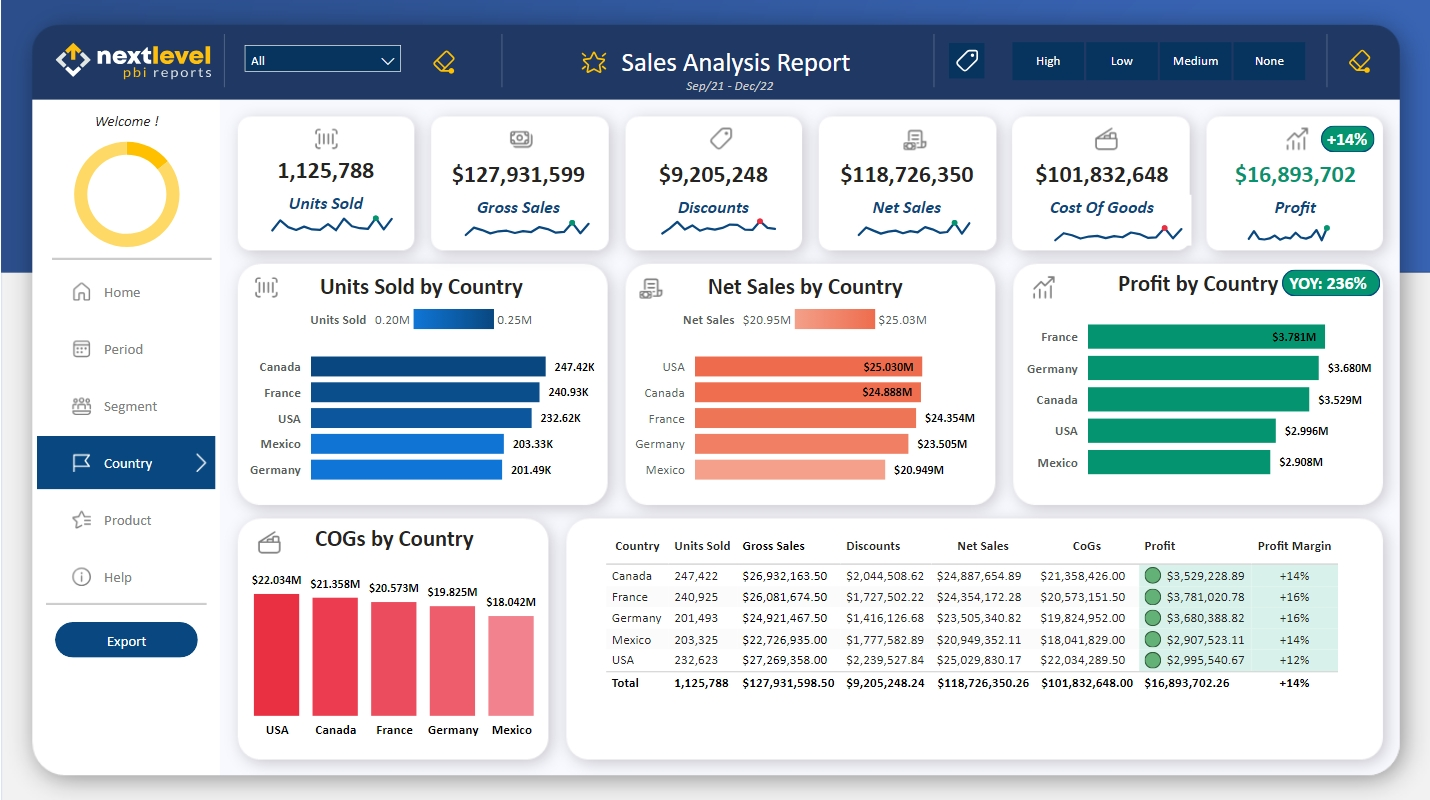

The dashboard page shown, as its layout file describes it:
{"tool":"powerbi","page":{"name":"Sales Analysis","canvas":[1280,720],"ordinal":1},"visuals":[{"type":"shape","title":"vertical line","box":[192,32,16,48],"z":0,"group":"g10"},{"type":"shape","title":"Profit margin Shape","box":[1182,114,48,24],"z":0,"group":"g7"},{"type":"shape","title":"line separate menu","box":[45,218,143,32],"z":0,"group":"g8"},{"type":"actionButton","title":"Units sold Button","box":[222,243,32,32],"z":0,"group":"g6"},{"type":"actionButton","title":"Net Sales Button","box":[567,243,32,32],"z":0,"group":"g4"},{"type":"actionButton","title":"Profit Button","box":[918,243,32,32],"z":0,"group":"g2"},{"type":"actionButton","title":"Period_active","box":[32,291,160,48],"z":0,"group":"g11"},{"type":"tableEx","fields":{"Values":["Dim_Date.Reporting period","Mesures.M_Units Sold","Mesures.M_Gross Sales","Mesures.M_Discounts","Mesures.M_Net Sales","Mesures.M_Cost Of Goods","Mesures.M_Profit","Mesures.M_Profit Margin Formatted"]},"box":[512,464,720,216],"z":0,"group":"g5"},{"type":"actionButton","title":"COGs Button","box":[224,472,32,32],"z":0,"group":"g1"},{"type":"actionButton","title":"Export","box":[48,560,128,32],"z":0,"group":"g3"},{"type":"slicer","title":"Manager Slicer","fields":{"Values":["DIM_MANAGERS.Manager Name"]},"box":[208,32,160,48],"z":1000,"group":"g9"},{"type":"shape","title":"vertical line","box":[440,32,16,48],"z":1000,"group":"g10"},{"type":"card","title":"Welcome_card","fields":{"Values":["Mesures.M_User Greeting"]},"box":[32,96,160,32],"z":1000,"group":"g8"},{"type":"card","title":"Profit margin Card","fields":{"Values":["Mesures.M_Profit Margin Formatted"]},"box":[1178,106,54,42],"z":1000,"group":"g7"},{"type":"lineChart","title":"Profit by Period","fields":{"Category":["Dim_Date.Reporting period"],"Y":["Mesures.M_Profit"]},"box":[912,243,320,200],"z":1000,"group":"g2"},{"type":"areaChart","title":"Units Sold by Period","fields":{"Category":["Dim_Date.Reporting period"],"Y":["Mesures.M_Units Sold"]},"box":[216,246,320,200],"z":1000,"group":"g6"},{"type":"lineChart","title":"Net Sales by Period","fields":{"Category":["Dim_Date.Reporting period"],"Y":["Mesures.M_Net Sales"]},"box":[560,246,320,200],"z":1000,"group":"g4"},{"type":"actionButton","title":"arrow Button","box":[160,291,32,48],"z":1000,"group":"g11"},{"type":"group","id":"g1","title":"CoGs Line chart","box":[200,472,304,200],"z":1000,"group":"g5"},{"type":"lineChart","title":"COGs by Period","fields":{"Category":["Dim_Date.Reporting period"],"Y":["Mesures.M_Cost Of Goods"]},"box":[200,472,304,200],"z":1000,"group":"g1"},{"type":"shape","title":"Bottom_line","box":[40,528,144,32],"z":1000,"group":"g3"},{"type":"shape","title":"vertical line","box":[832,32,8,48],"z":2000,"group":"g10"},{"type":"actionButton","title":" Clear Button  Manager","box":[378,44,36,25],"z":2000,"group":"g9"},{"type":"actionButton","title":"Profit Button","box":[1144,110,32,32],"z":2000,"group":"g7"},{"type":"donutChart","title":"Donut chart","fields":{"Y":["Mesures.M_Profit Margin","Mesures.M_100% Minus Profit Margin"]},"box":[48,112,128,128],"z":2000,"group":"g8"},{"type":"group","id":"g2","title":"Profit line chart","box":[912,235,321,208],"z":2000,"group":"g5"},{"type":"shape","title":"Profit margin Shape","box":[1145,243,88,24],"z":2000,"group":"g2"},{"type":"actionButton","title":"Help","box":[32,495,160,48],"z":2000,"group":"g3"},{"type":"shape","title":"vertical line","box":[1184,32,8,48],"z":3000,"group":"g10"},{"type":"actionButton","title":"Star Logo","box":[500,37,63,40],"z":3000,"group":"g9"},{"type":"pivotTable","title":"Profit Matrix","fields":{"Values":["SparklineData(Mesures.M_Profit_[Dim_Date.yearMonth])"]},"box":[1088,170,135,58],"z":3000,"group":"g7"},{"type":"card","title":"Profit margin Card","fields":{"Values":["Mesures.M_Profit YOY% Formatted"]},"box":[1145,235,87,42],"z":3000,"group":"g2"},{"type":"group","id":"g3","title":"Menu bar","box":[32,240,160,352],"z":3000,"group":"g8"},{"type":"group","id":"g4","title":"Net sales line chart","box":[560,243,320,203],"z":3000,"group":"g5"},{"type":"textbox","title":"Title","box":[550,37,235,41],"z":4000,"group":"g9"},{"type":"card","title":"Profit Card","fields":{"Values":["Mesures.M_Profit"]},"box":[1086,119,144,96],"z":4000,"group":"g7"},{"type":"group","id":"g5","title":"Period","box":[200,235,1033,445],"z":4000},{"type":"group","id":"g6","title":"Units sold line chart","box":[216,243,320,203],"z":4000,"group":"g5"},{"type":"actionButton","title":"Product","box":[32,444,160,48],"z":4000,"group":"g3"},{"type":"card","title":"Selected_date Card ","fields":{"Values":["Mesures.M_Date Selection"]},"box":[592,64,120,24],"z":5000,"group":"g9"},{"type":"group","id":"g7","title":"Upper Cards - Static","box":[213,106,1019,132],"z":5000},{"type":"actionButton","title":"COGs Button","box":[973.4,110,32,32],"z":5000,"group":"g7"},{"type":"actionButton","title":"Dynamic Filter_button","box":[848,40,32,32],"z":6000,"group":"g9"},{"type":"group","id":"g8","title":"Navigation","box":[32,96,160,496],"z":6000},{"type":"pivotTable","title":"COGs Matrix","fields":{"Values":["SparklineData(Mesures.M_Cost Of Goods_[Dim_Date.yearMonth])"]},"box":[914.8,170,157,68],"z":6000,"group":"g7"},{"type":"actionButton","title":"Country","box":[32,393,160,48],"z":6000,"group":"g3"},{"type":"group","id":"g9","title":"Header","box":[192,32,1048,56],"z":7000},{"type":"slicer","title":"Slicer for Discount Band","fields":{"Values":["FACT_SALES.Discount Band"]},"box":[880,32,312,48],"z":7000,"group":"g9"},{"type":"card","title":"COGs Card","fields":{"Values":["Mesures.M_Cost Of Goods"]},"box":[912.2,119,144,96],"z":7000,"group":"g7"},{"type":"actionButton","title":"Clear Button","box":[1192,40,48,32],"z":8000,"group":"g9"},{"type":"actionButton","title":"Net Sales Button","box":[802.8,110,32,32],"z":8000,"group":"g7"},{"type":"actionButton","title":"Segment","box":[32,342,160,48],"z":8000,"group":"g3"},{"type":"group","id":"g10","title":"Vertical lines","box":[192,32,1000,48],"z":9000,"group":"g9"},{"type":"pivotTable","title":"Net sales Matrix","fields":{"Values":["SparklineData(Mesures.M_Net Sales_[Dim_Date.yearMonth])"]},"box":[738.6,164,170,64],"z":9000,"group":"g7"},{"type":"group","id":"g11","title":"Period_active","box":[32,291,160,48],"z":9000,"group":"g3"},{"type":"card","title":"Net_sales Card","fields":{"Values":["Mesures.M_Net Sales"]},"box":[738.4,119,144,96],"z":10000,"group":"g7"},{"type":"actionButton","title":"Discounts Button","box":[624.2,110,40,32],"z":11000,"group":"g7"},{"type":"actionButton","title":"Home","box":[32,240,160,48],"z":11000,"group":"g3"},{"type":"pivotTable","title":"Discounts Matrix","fields":{"Values":["SparklineData(Mesures.M_Discounts_[Dim_Date.yearMonth])"]},"box":[562.4,162,170,66],"z":12000,"group":"g7"},{"type":"card","title":"Discounts Card","fields":{"Values":["Mesures.M_Discounts"]},"box":[564.6,119,144,96],"z":13000,"group":"g7"},{"type":"actionButton","title":"Gross sales Button","box":[445.6,110,40,32],"z":14000,"group":"g7"},{"type":"pivotTable","title":"Gross_sales Matrix","fields":{"Values":["SparklineData(Mesures.M_Gross Sales_[Dim_Date.yearMonth])"]},"box":[386.2,164,170,64],"z":15000,"group":"g7"},{"type":"card","title":"Gross_sales Card","fields":{"Values":["Mesures.M_Gross Sales"]},"box":[390.8,119,144,96],"z":16000,"group":"g7"},{"type":"actionButton","title":"Units sold Button","box":[275,110,32,32],"z":17000,"group":"g7"},{"type":"pivotTable","title":"Unit_sold Matrix","fields":{"Values":["SparklineData(Mesures.M_Units Sold_[Dim_Date.yearMonth])"]},"box":[213,160,170,68],"z":18000,"group":"g7"},{"type":"card","title":"Unit_sold Card","fields":{"Values":["Mesures.M_Units Sold"]},"box":[218,119,143,89],"z":19000,"group":"g7"}]}

Visuals, with their boxes in screenshot pixels (x1, y1, x2, y2), scaled from the page's 1280x720 canvas onto the 1430x800 screenshot:
"vertical line" shape: 214/36/232/89
"Profit margin Shape" shape: 1321/127/1374/153
"line separate menu" shape: 50/242/210/278
"Units sold Button" actionButton: 248/270/284/306
"Net Sales Button" actionButton: 633/270/669/306
"Profit Button" actionButton: 1026/270/1061/306
"Period_active" actionButton: 36/323/214/377
tableEx - Dim_Date.Reporting period x Mesures.M_Units Sold: 572/516/1376/756
"COGs Button" actionButton: 250/524/286/560
"Export" actionButton: 54/622/197/658
"Manager Slicer" slicer: 232/36/411/89
"vertical line" shape: 492/36/509/89
"Welcome_card" card: 36/107/214/142
"Profit margin Card" card: 1316/118/1376/164
"Profit by Period" lineChart: 1019/270/1376/492
"Units Sold by Period" areaChart: 241/273/599/496
"Net Sales by Period" lineChart: 626/273/983/496
"arrow Button" actionButton: 179/323/214/377
"CoGs Line chart" group: 223/524/563/747
"COGs by Period" lineChart: 223/524/563/747
"Bottom_line" shape: 45/587/206/622
"vertical line" shape: 930/36/938/89
" Clear Button  Manager" actionButton: 422/49/463/77
"Profit Button" actionButton: 1278/122/1314/158
"Donut chart" donutChart: 54/124/197/267
"Profit line chart" group: 1019/261/1377/492
"Profit margin Shape" shape: 1279/270/1377/297
"Help" actionButton: 36/550/214/603
"vertical line" shape: 1323/36/1332/89
"Star Logo" actionButton: 559/41/629/86
"Profit Matrix" pivotTable: 1216/189/1366/253
"Profit margin Card" card: 1279/261/1376/308
"Menu bar" group: 36/267/214/658
"Net sales line chart" group: 626/270/983/496
"Title" textbox: 614/41/877/87
"Profit Card" card: 1213/132/1374/239
"Period" group: 223/261/1377/756
"Units sold line chart" group: 241/270/599/496
"Product" actionButton: 36/493/214/547
"Selected_date Card " card: 661/71/795/98
"Upper Cards - Static" group: 238/118/1376/264
"COGs Button" actionButton: 1087/122/1123/158
"Dynamic Filter_button" actionButton: 947/44/983/80
"Navigation" group: 36/107/214/658
"COGs Matrix" pivotTable: 1022/189/1197/264
"Country" actionButton: 36/437/214/490
"Header" group: 214/36/1385/98
"Slicer for Discount Band" slicer: 983/36/1332/89
"COGs Card" card: 1019/132/1180/239
"Clear Button" actionButton: 1332/44/1385/80
"Net Sales Button" actionButton: 897/122/933/158
"Segment" actionButton: 36/380/214/433
"Vertical lines" group: 214/36/1332/89
"Net sales Matrix" pivotTable: 825/182/1015/253
"Period_active" group: 36/323/214/377
"Net_sales Card" card: 825/132/986/239
"Discounts Button" actionButton: 697/122/742/158
"Home" actionButton: 36/267/214/320
"Discounts Matrix" pivotTable: 628/180/818/253
"Discounts Card" card: 631/132/792/239
"Gross sales Button" actionButton: 498/122/543/158
"Gross_sales Matrix" pivotTable: 431/182/621/253
"Gross_sales Card" card: 437/132/597/239
"Units sold Button" actionButton: 307/122/343/158
"Unit_sold Matrix" pivotTable: 238/178/428/253
"Unit_sold Card" card: 244/132/403/231
